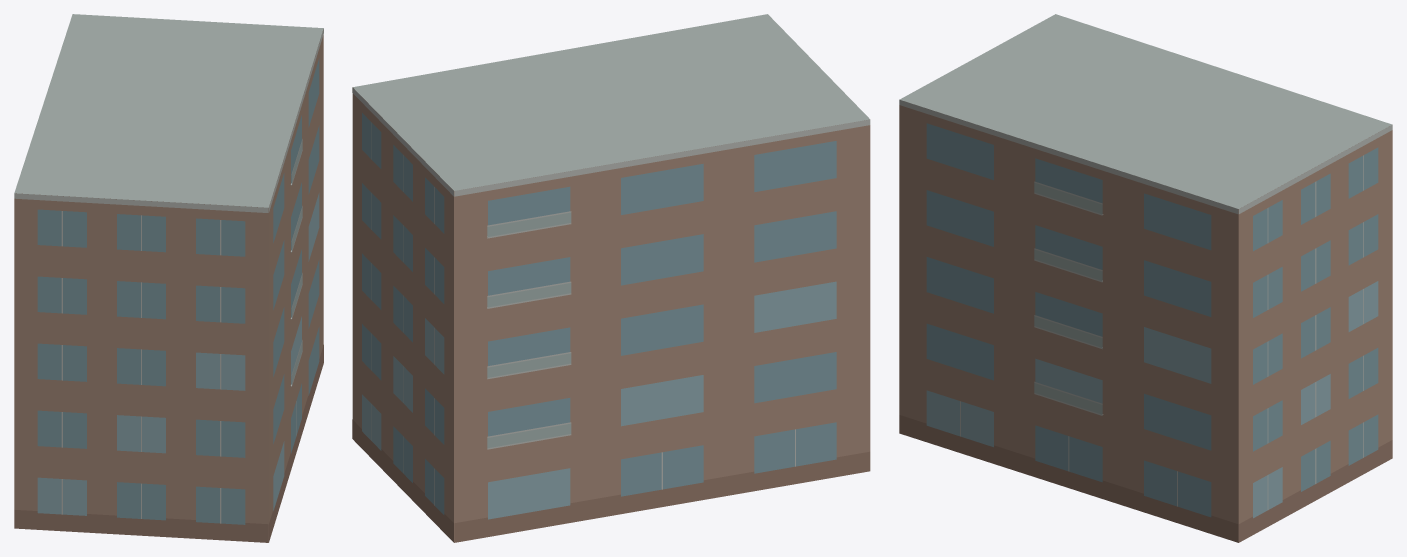
Rendered from survey-upis-32736816.glb.
3 renders of one model, left to right at view 1: azimuth 30°, elevation 25°; view 2: azimuth 150°, elevation 25°; view 3: azimuth 270°, elevation 25°, orthographic. The views are drawn at different scales.
Visible parts, largest first — view 1: survey-upis-32736816.tmp; view 2: survey-upis-32736816.tmp; view 3: survey-upis-32736816.tmp.
Boxes of the visible parts, left/top/right/bottom form: survey-upis-32736816.tmp: left=14, top=14, right=323, bottom=542; survey-upis-32736816.tmp: left=352, top=14, right=870, bottom=542; survey-upis-32736816.tmp: left=899, top=14, right=1392, bottom=542.
Bounding box in the file's own units: 18.93 × 15.1 × 20.22.
